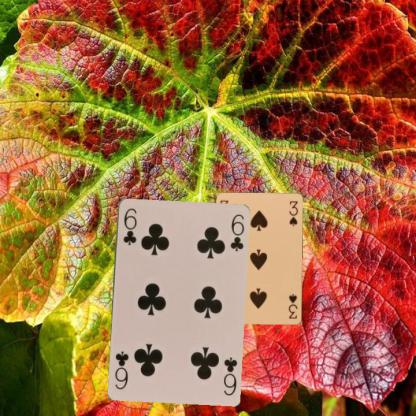3s: (286, 291, 299, 320)
6c: (120, 205, 138, 246), (221, 354, 238, 396)
